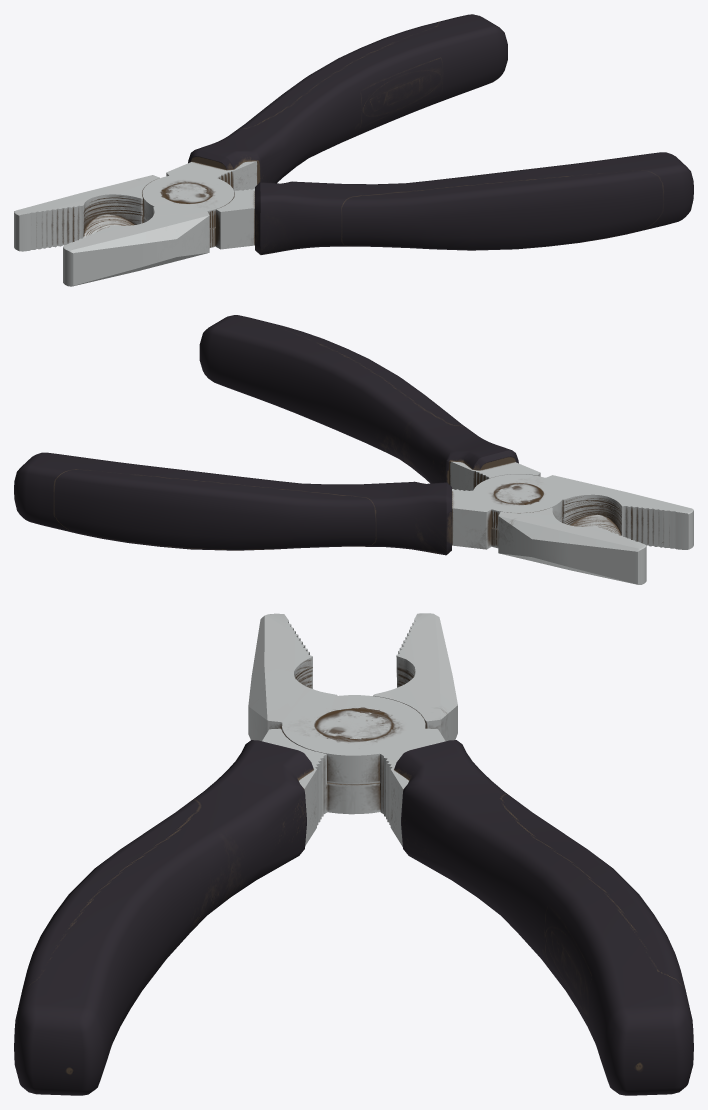
Rendered from pliers_2.glb.
The picture shows the model from 3 angles, top to bottom: view 1: azimuth 30°, elevation 25°; view 2: azimuth 150°, elevation 25°; view 3: azimuth 270°, elevation 25°; orthographic projection. The views are drawn at different scales.
Parts seen in each view (by area): view 1: pliers_2, pliers_2.004, pliers_2.003, pliers_2.002, pliers_2.001; view 2: pliers_2.004, pliers_2, pliers_2.003, pliers_2.002, pliers_2.001; view 3: pliers_2.004, pliers_2, pliers_2.003, pliers_2.002, pliers_2.001.
Boxes of the visible parts, box(x1,y1,x2,y2) form: pliers_2: box(254, 152, 693, 254); pliers_2.004: box(188, 14, 507, 183); pliers_2.003: box(63, 161, 258, 286); pliers_2.002: box(14, 175, 254, 251); pliers_2.001: box(163, 183, 212, 203); pliers_2.004: box(14, 452, 452, 555); pliers_2: box(199, 315, 518, 483); pliers_2.003: box(452, 474, 693, 549); pliers_2.002: box(449, 461, 646, 584); pliers_2.001: box(494, 483, 543, 503); pliers_2.004: box(394, 740, 693, 1095); pliers_2: box(14, 740, 313, 1095); pliers_2.003: box(248, 613, 445, 846); pliers_2.002: box(262, 613, 457, 845); pliers_2.001: box(315, 709, 392, 741).
Size of the model in its own units: 0.4345 by 0.0474 by 0.2955.
1 material, 1 textured.
